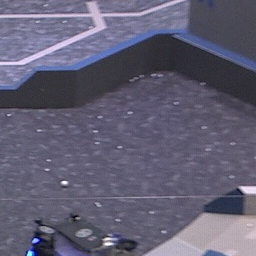Robot: (24, 212, 132, 256)
